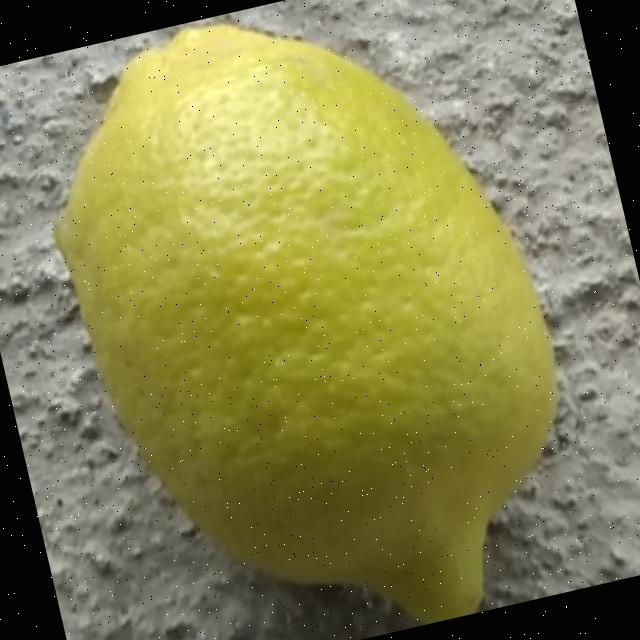Ripe: (8, 0, 613, 640)
